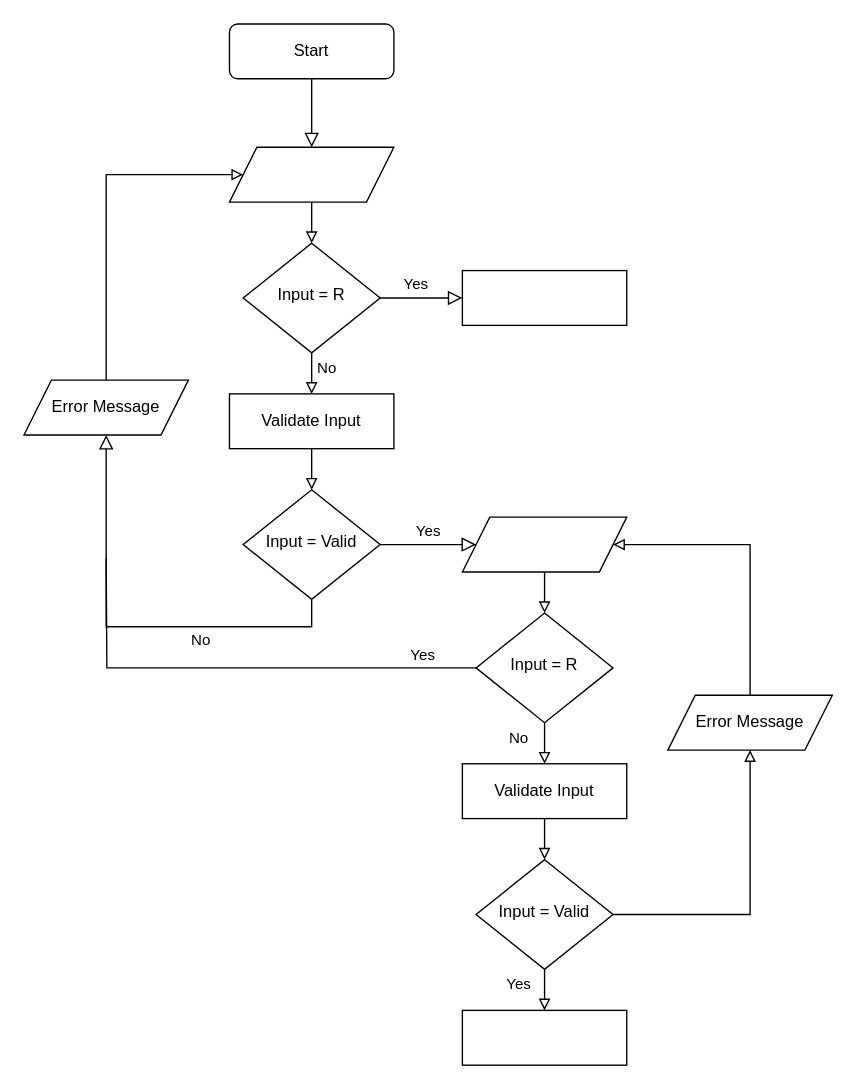
The diagram is 856 pixels wide and 1089 high, and some of its shapes have lost their labels. The centre of each missing label's shape, as x and y in pixels:
Display LandingScreen: the point at 544,297
Display TicketBooking: the point at 544,1037
FirstName = Input: the point at 311,174
LastName = Input: the point at 544,544
